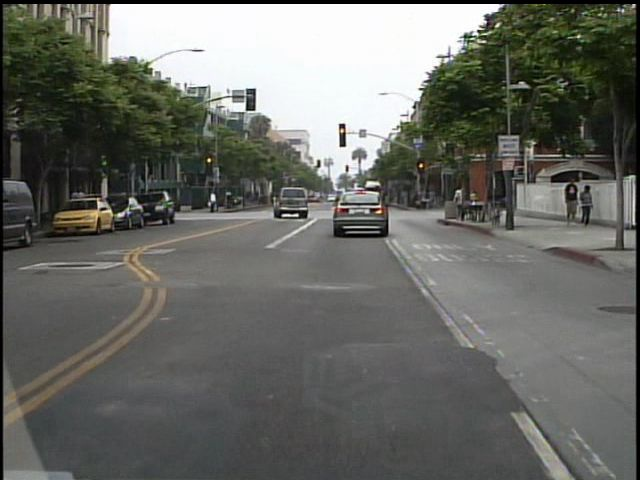person: (562, 175, 581, 228), (573, 183, 593, 230), (449, 184, 470, 224), (208, 188, 221, 216)
